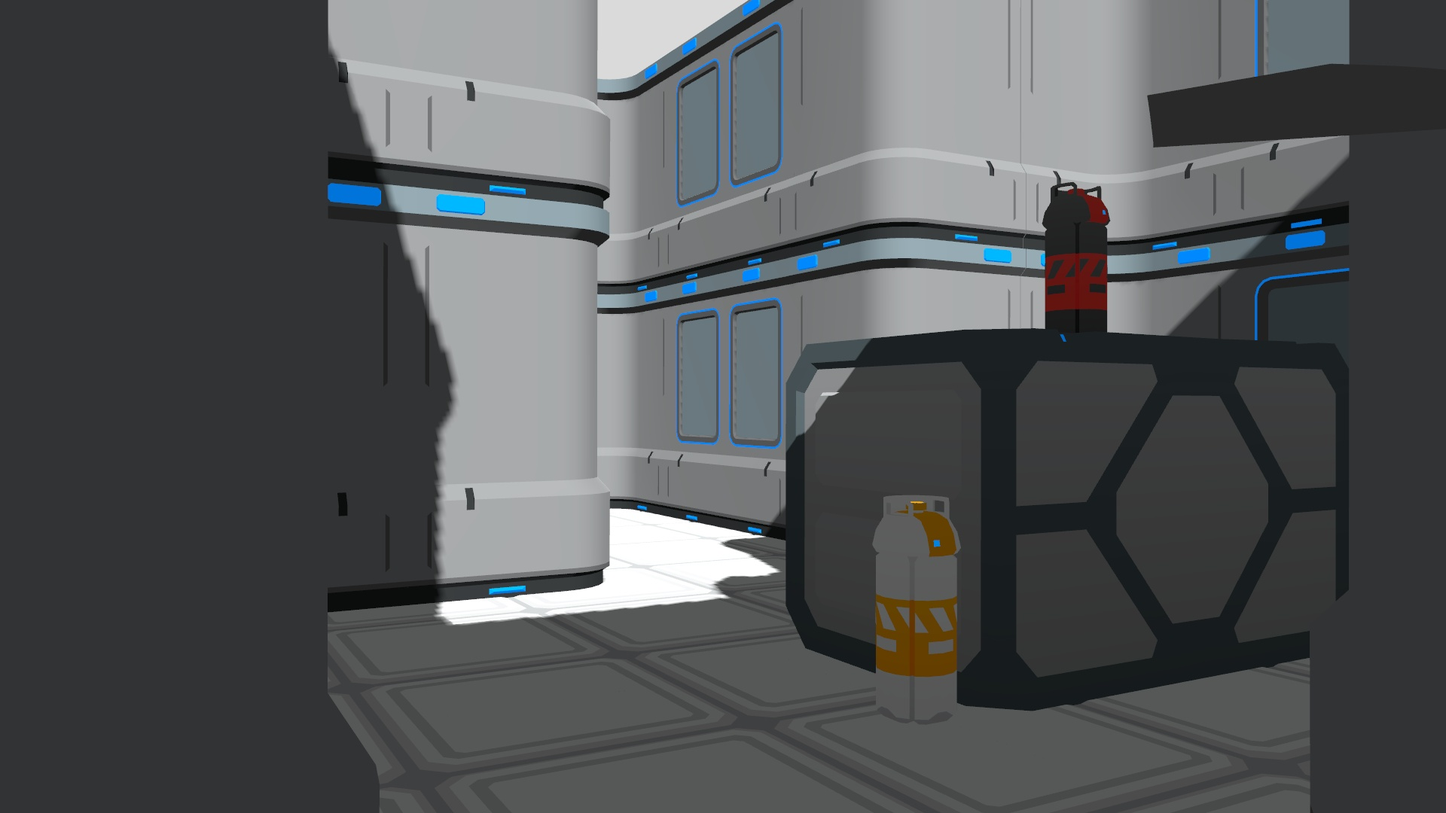red_barrel: (867, 484, 967, 729), (1037, 176, 1113, 341)
